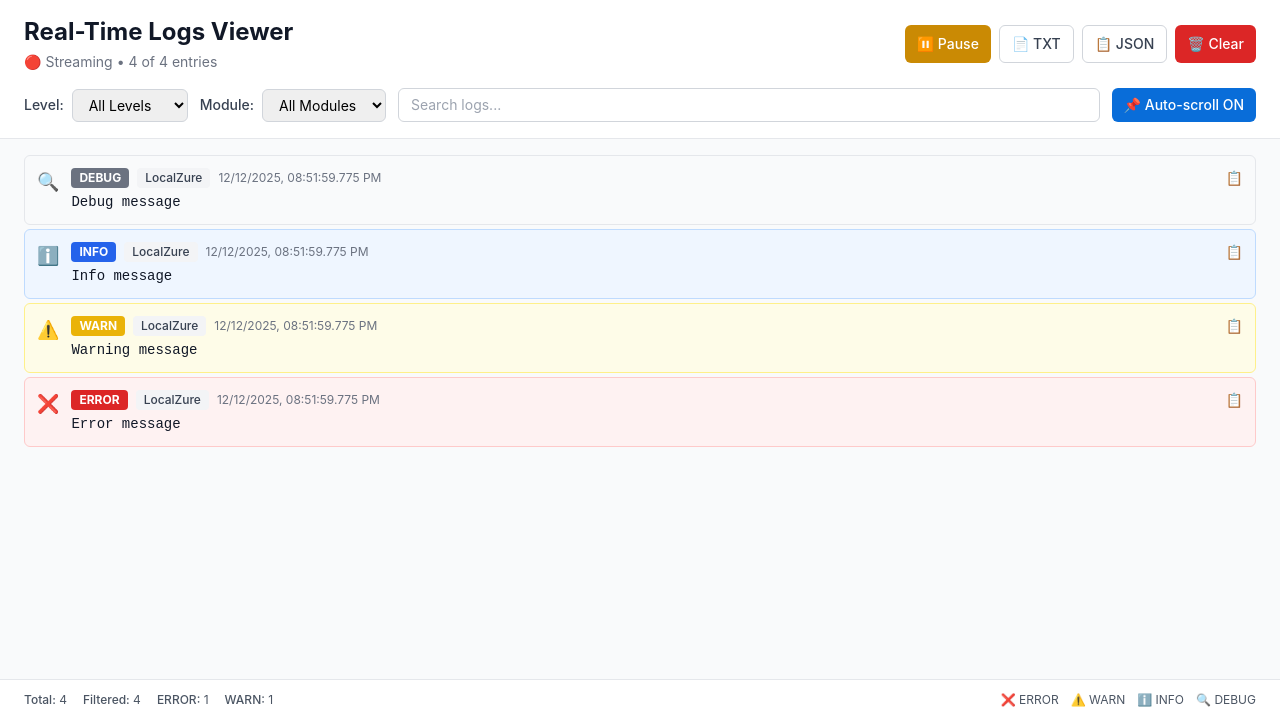
Scenario: Enhanced Logs Component - DESKTOP-003 › AC3: Filter by log level › filters logs by WARN level
The width and height of the screenshot is (1280, 720).
Select "⚠️ WARN" in the dropdown with test id "level-filter" at (130, 105), box [72, 88, 188, 122]
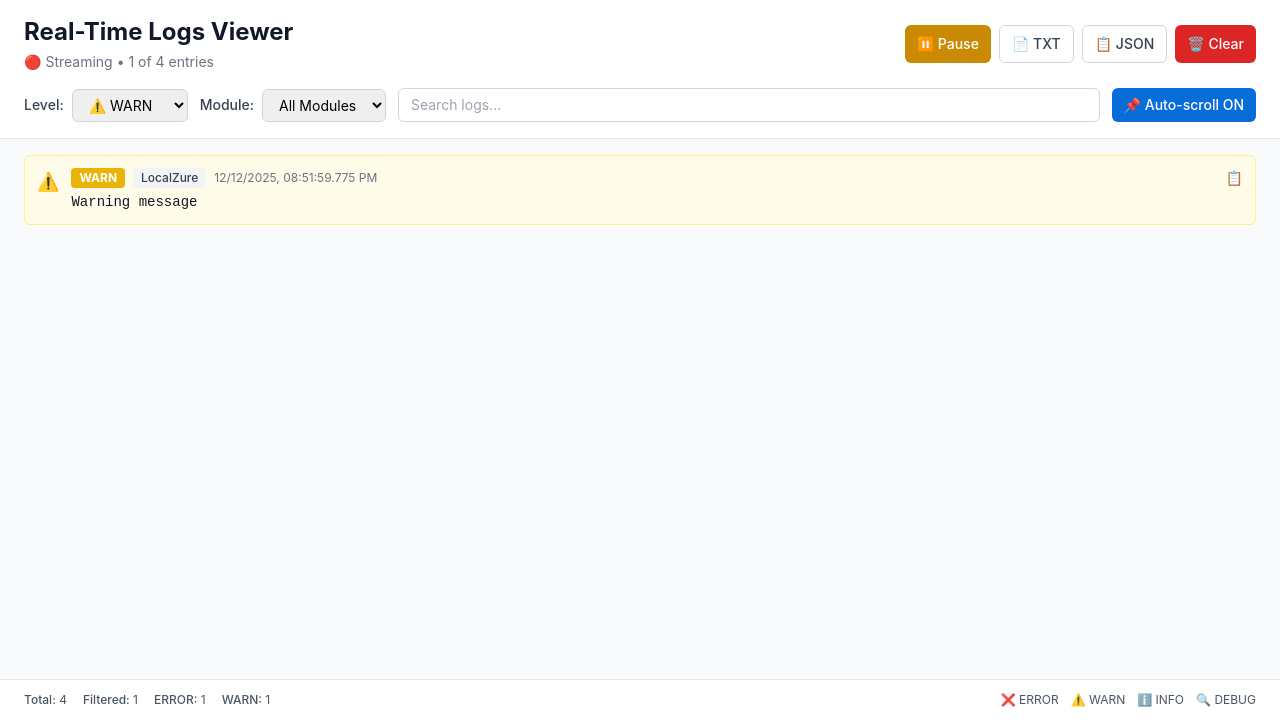
Check: the text "Debug message" is gone
Check: the text "Info message" is gone
Check: the text "Warning message" is shown, box [72, 194, 198, 210]
